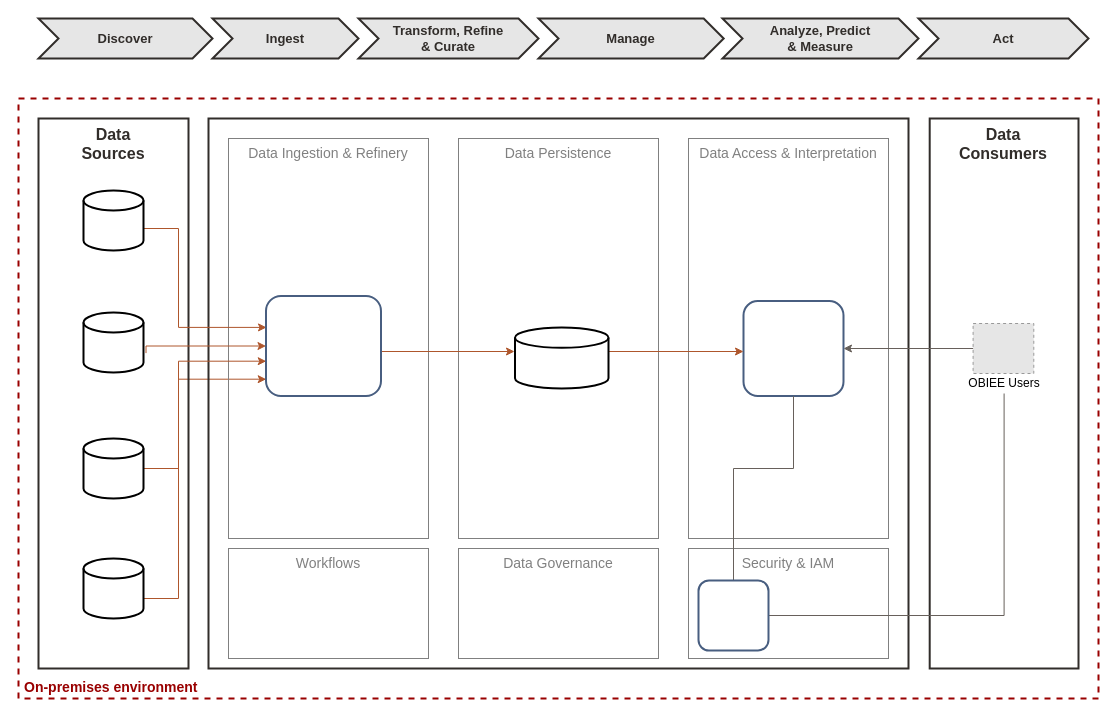
The diagram is 1116 pixels wide and 716 high, and some of its shapes have lost their labels. Grey dashed boxes stand in for pictures. Each missing label, with the centre of its shape:
"Auth Provider" goes at point 733,615.
"Data Warehouse" goes at point 561,357.
"ETL" goes at point 323,345.
"OBIEE" goes at point 793,348.
